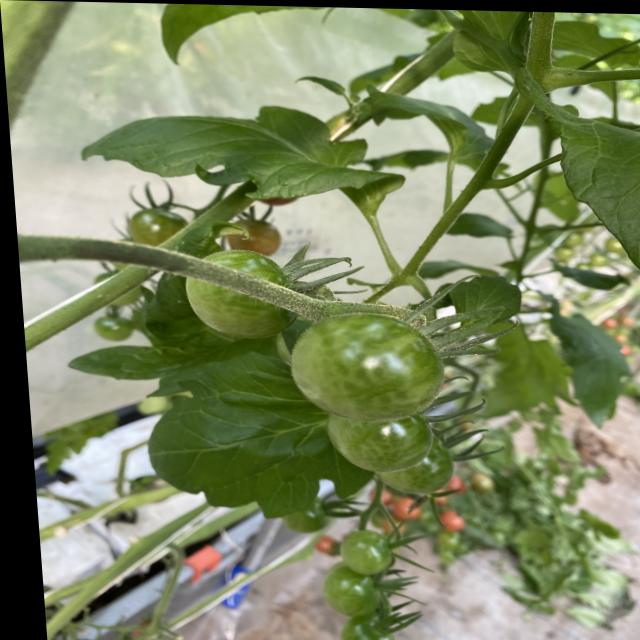yesil: (156, 217, 524, 499)
